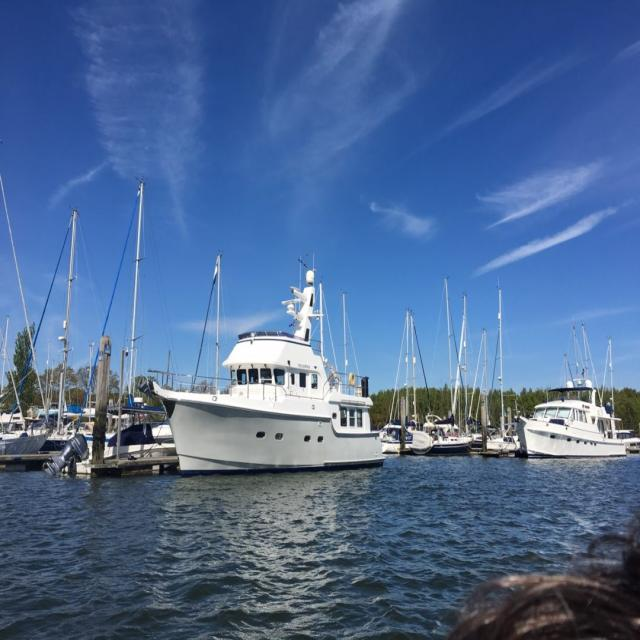houseboat: (162, 308, 396, 473), (514, 374, 637, 462)
